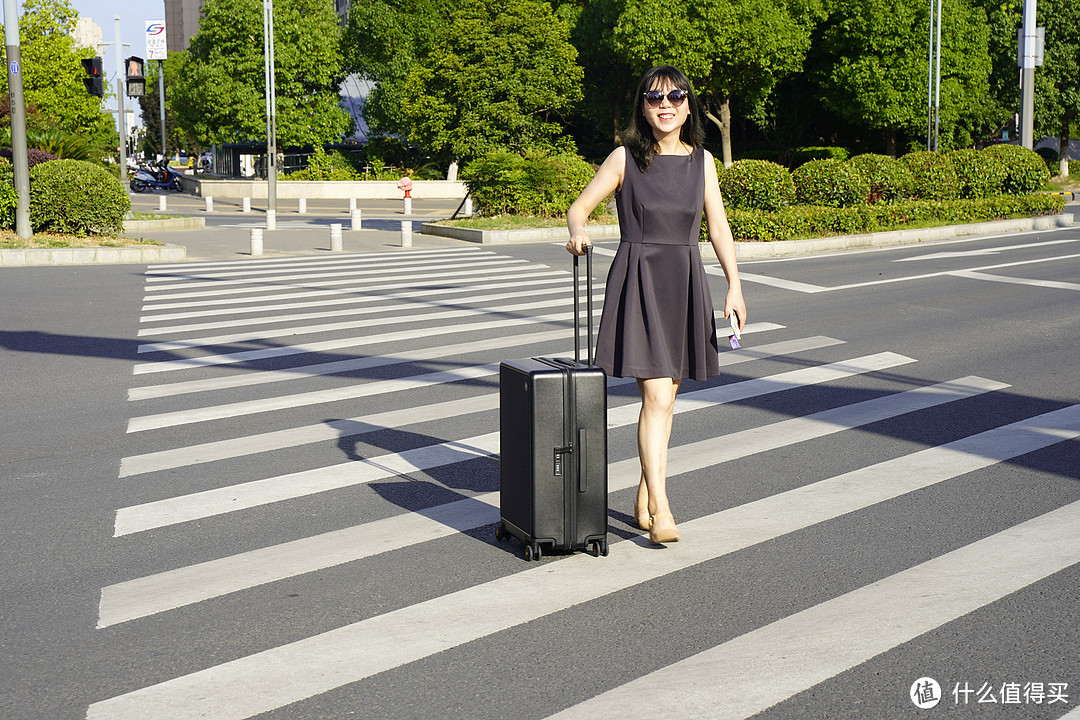handle: (579, 428, 588, 493)
lock: (553, 445, 573, 477)
wheel: (523, 543, 542, 561), (592, 539, 610, 557), (495, 524, 511, 542)
